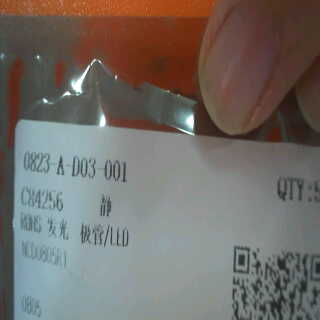LED: (44, 215, 131, 249)
